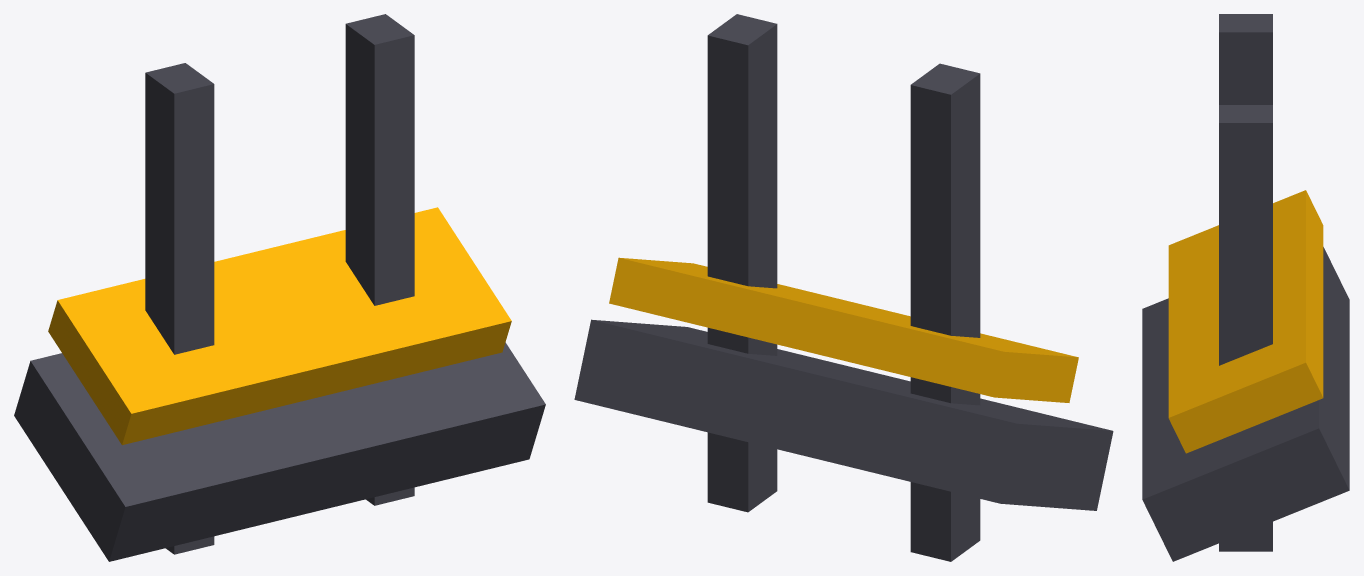
Rendered from sig_zebra.glb.
The picture shows the model from 3 angles, left to right: view 1: azimuth 30°, elevation 25°; view 2: azimuth 150°, elevation 25°; view 3: azimuth 270°, elevation 25°; orthographic projection. The views are drawn at different scales.
Parts seen in each view (by area): view 1: Cube.001, Cube.002, Cube.003, Cube.004, Cube.005, Cube.006; view 2: Cube.001, Cube.003, Cube.005, Cube.006, Cube.002, Cube.004; view 3: Cube.003, Cube.004, Cube.006, Cube.002, Cube.001, Cube.005.
Boxes of the visible parts, left/top/right/bottom form: Cube.001: left=14, top=353, right=385, bottom=561; Cube.002: left=48, top=246, right=351, bottom=445; Cube.003: left=264, top=342, right=545, bottom=498; Cube.004: left=219, top=207, right=511, bottom=391; Cube.005: left=145, top=63, right=214, bottom=554; Cube.006: left=345, top=14, right=414, bottom=505; Cube.001: left=737, top=360, right=1113, bottom=510; Cube.003: left=574, top=319, right=907, bottom=463; Cube.005: left=910, top=63, right=980, bottom=561; Cube.006: left=707, top=14, right=777, bottom=512; Cube.002: left=771, top=297, right=1078, bottom=402; Cube.004: left=609, top=257, right=910, bottom=354; Cube.003: left=1142, top=320, right=1349, bottom=561; Cube.004: left=1168, top=263, right=1323, bottom=453; Cube.006: left=1219, top=105, right=1272, bottom=551; Cube.002: left=1168, top=190, right=1323, bottom=324; Cube.001: left=1142, top=247, right=1349, bottom=426; Cube.005: left=1219, top=14, right=1272, bottom=104.
Bounding box in the file's own units: 0.21 × 0.22 × 0.0964.
